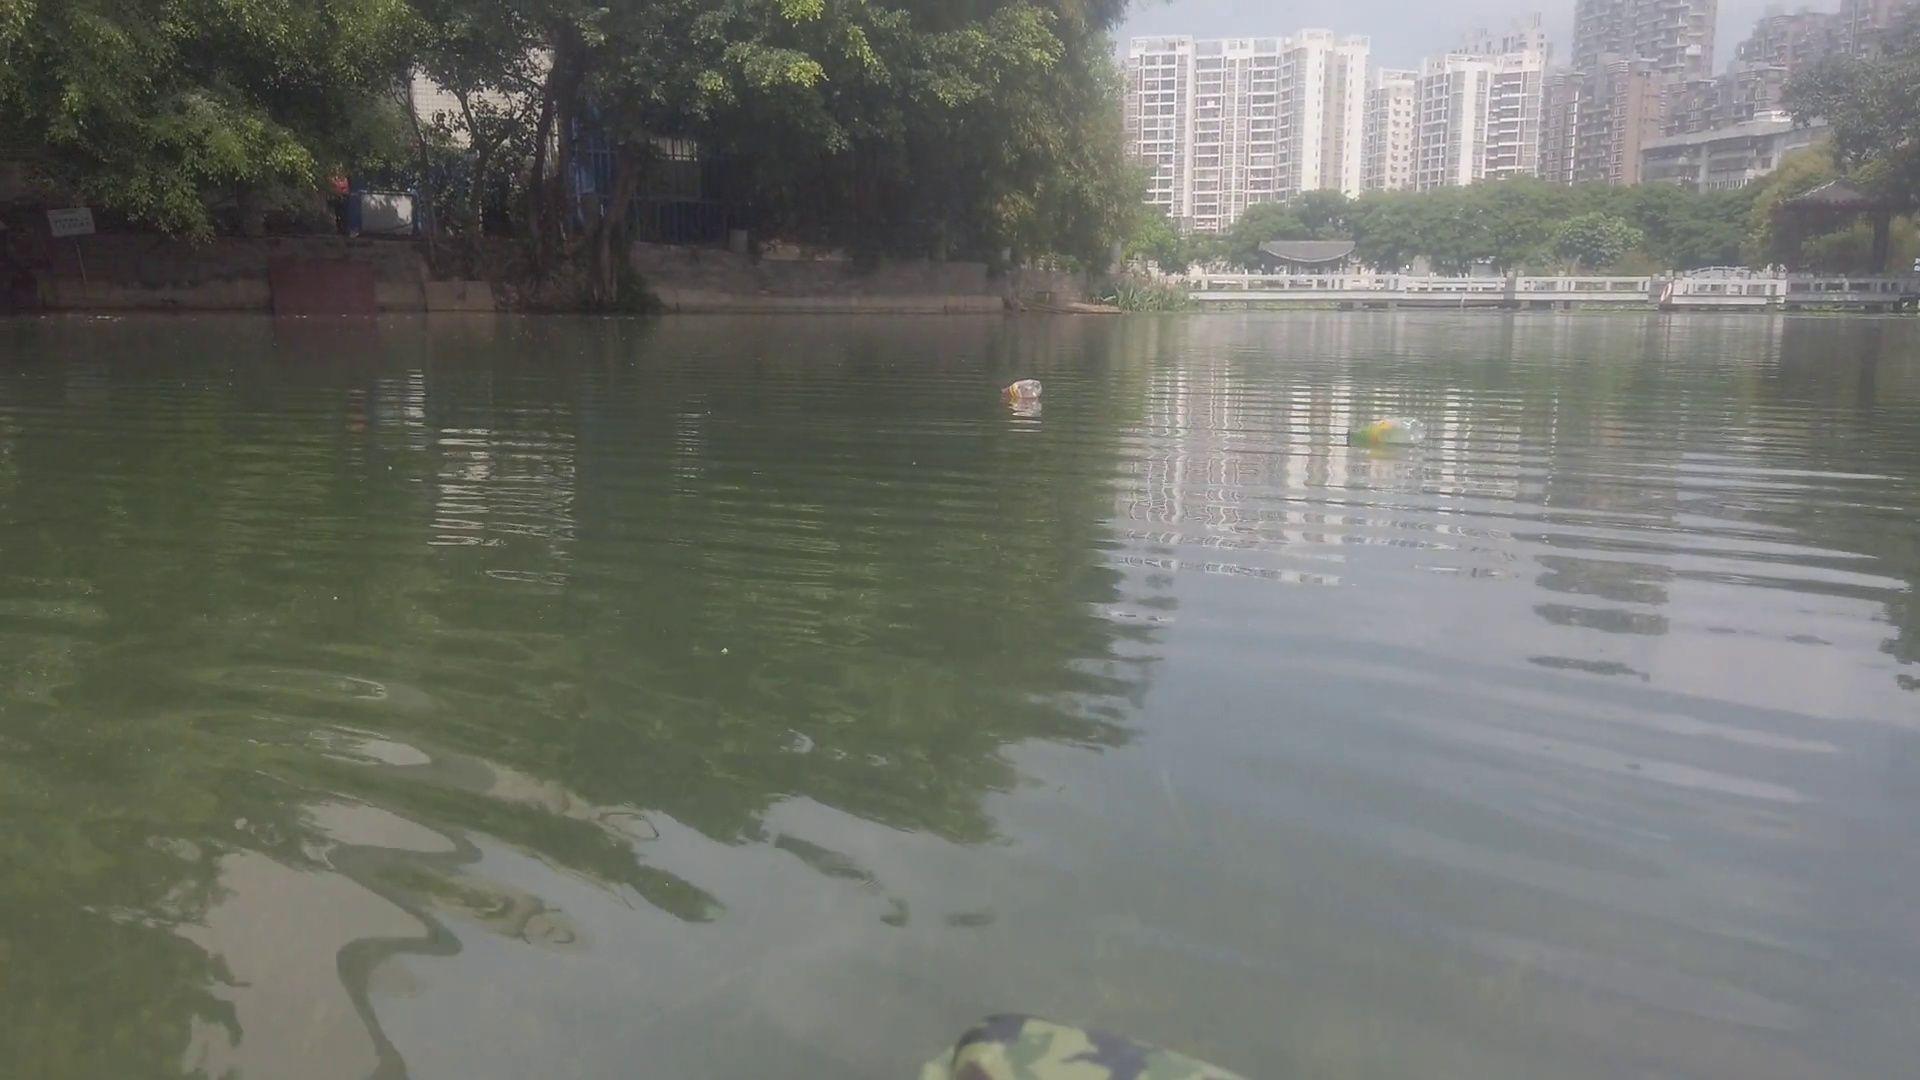bottle: (1345, 417, 1427, 444), (1004, 378, 1042, 398)
